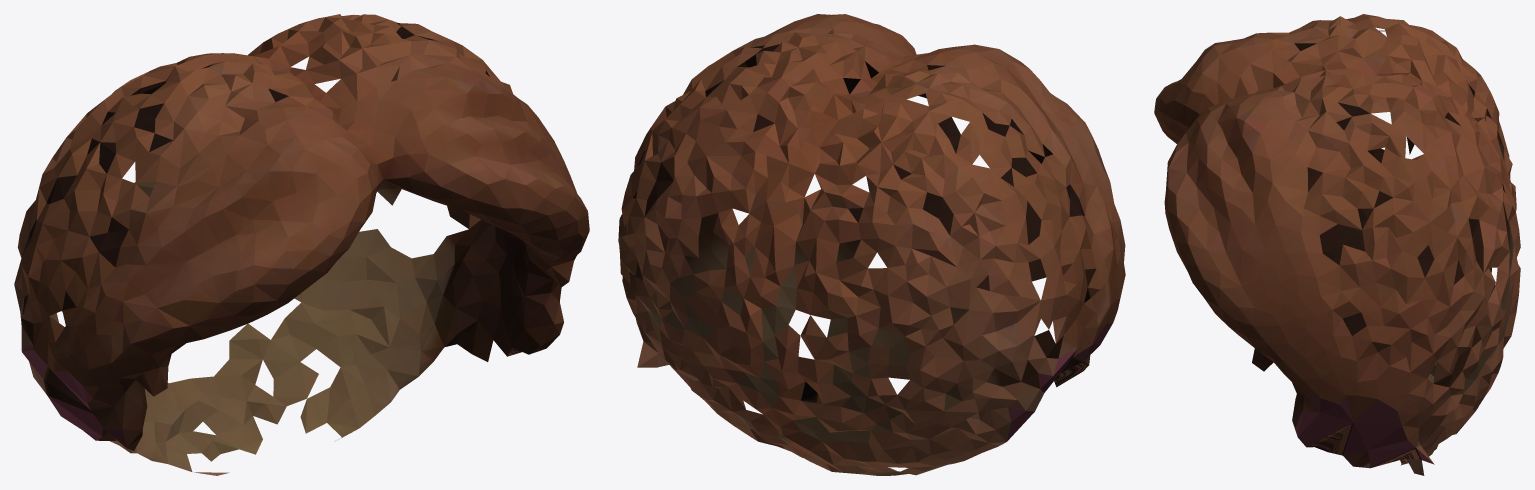
The model's file is hairstyle_099.glb.
The picture shows the model from 3 angles, left to right: view 1: azimuth 30°, elevation 25°; view 2: azimuth 150°, elevation 25°; view 3: azimuth 270°, elevation 25°; orthographic projection. The views are drawn at different scales.
Parts seen in each view (by area): view 1: geometry_0_099; view 2: geometry_0_099; view 3: geometry_0_099.
Boxes of the visible parts, x1,y1,x2,y2 form: geometry_0_099: (14,14,589,475); geometry_0_099: (618,14,1125,475); geometry_0_099: (1154,14,1520,475).
Bounding box in the file's own units: 1.18 × 0.9907 × 0.8342.
1 material, 1 textured.
